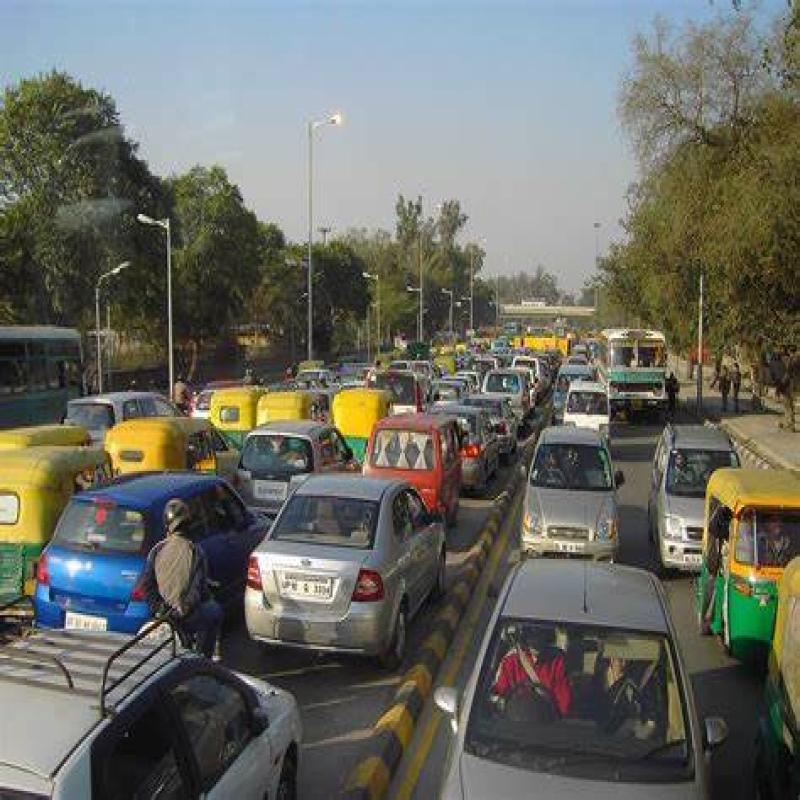auto: (0, 422, 118, 608), (705, 454, 800, 655), (87, 404, 199, 486), (203, 376, 258, 448), (331, 389, 378, 463)
car: (439, 549, 698, 800), (237, 454, 454, 647), (34, 474, 263, 647), (514, 414, 642, 578), (644, 414, 756, 573)
